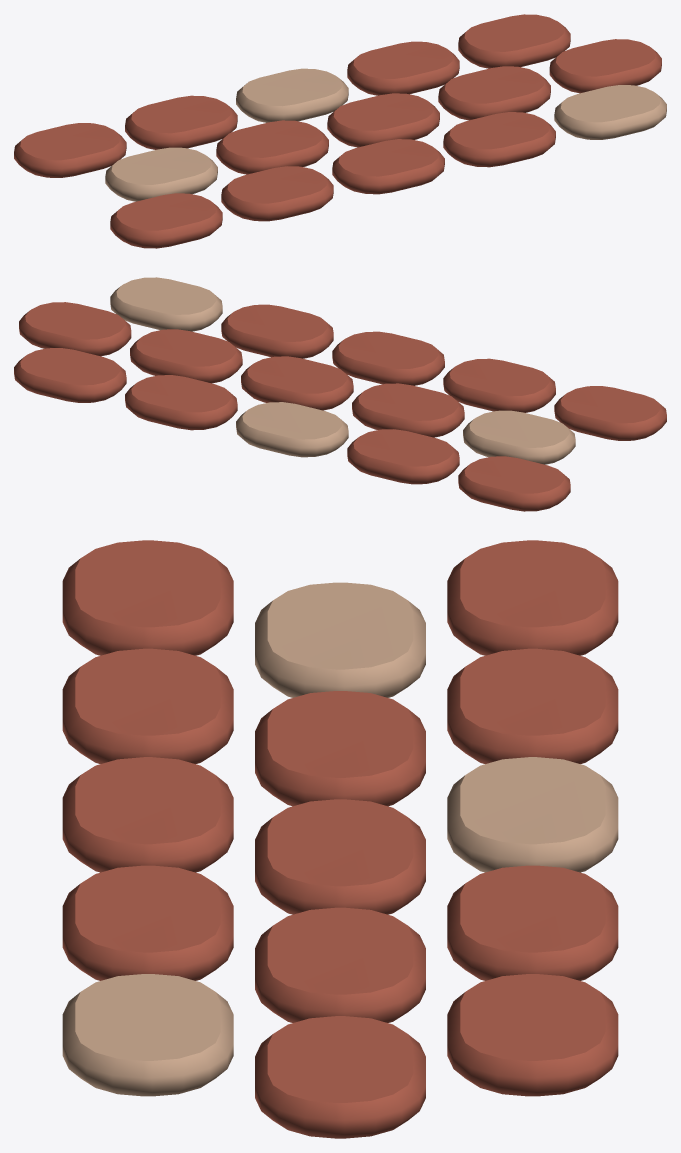
The model's file is paving_5.glb.
The picture shows the model from 3 angles, top to bottom: view 1: azimuth 30°, elevation 25°; view 2: azimuth 150°, elevation 25°; view 3: azimuth 270°, elevation 25°; orthographic projection. The views are drawn at different scales.
Visible parts, largest first — view 1: Paving; view 2: Paving; view 3: Paving.
Boxes of the visible parts, left/top/right/bottom form: Paving: left=14, top=14, right=666, bottom=248; Paving: left=14, top=277, right=666, bottom=511; Paving: left=62, top=540, right=618, bottom=1138.
Bounding box in the file's own units: 3.81 × 0.11 × 1.56.
